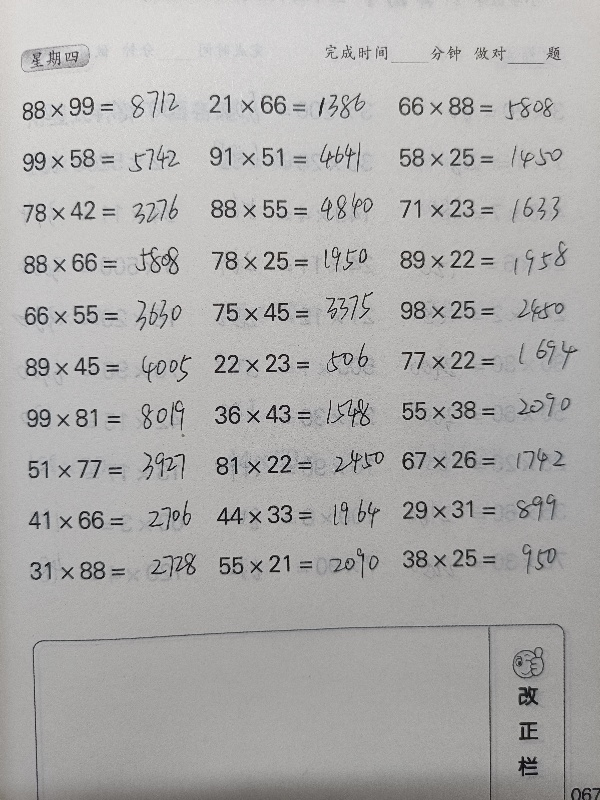equation: (392, 336, 588, 384), (206, 392, 386, 437), (201, 135, 381, 180), (202, 188, 382, 230), (393, 491, 573, 526), (15, 297, 195, 332), (15, 245, 195, 280), (15, 193, 195, 228), (14, 141, 194, 176), (390, 89, 570, 124), (13, 90, 193, 125), (391, 292, 584, 324), (22, 554, 202, 588), (210, 547, 390, 581), (394, 541, 574, 575), (20, 503, 200, 537), (208, 497, 388, 531), (20, 452, 200, 486), (205, 447, 385, 481), (392, 443, 572, 477), (18, 401, 198, 435), (393, 393, 573, 427), (16, 349, 196, 383), (205, 346, 385, 380), (205, 295, 385, 329), (204, 244, 384, 278), (391, 242, 571, 276), (392, 192, 572, 226), (391, 141, 571, 175), (200, 87, 380, 121)
